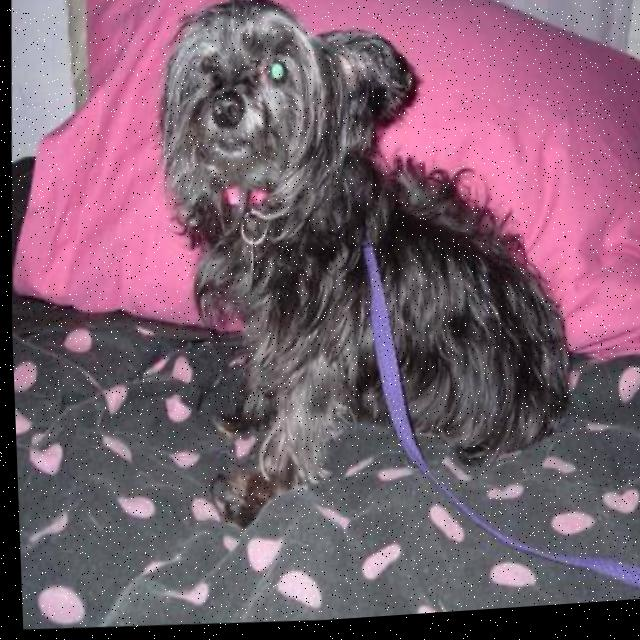dogs: (123, 0, 595, 548)
